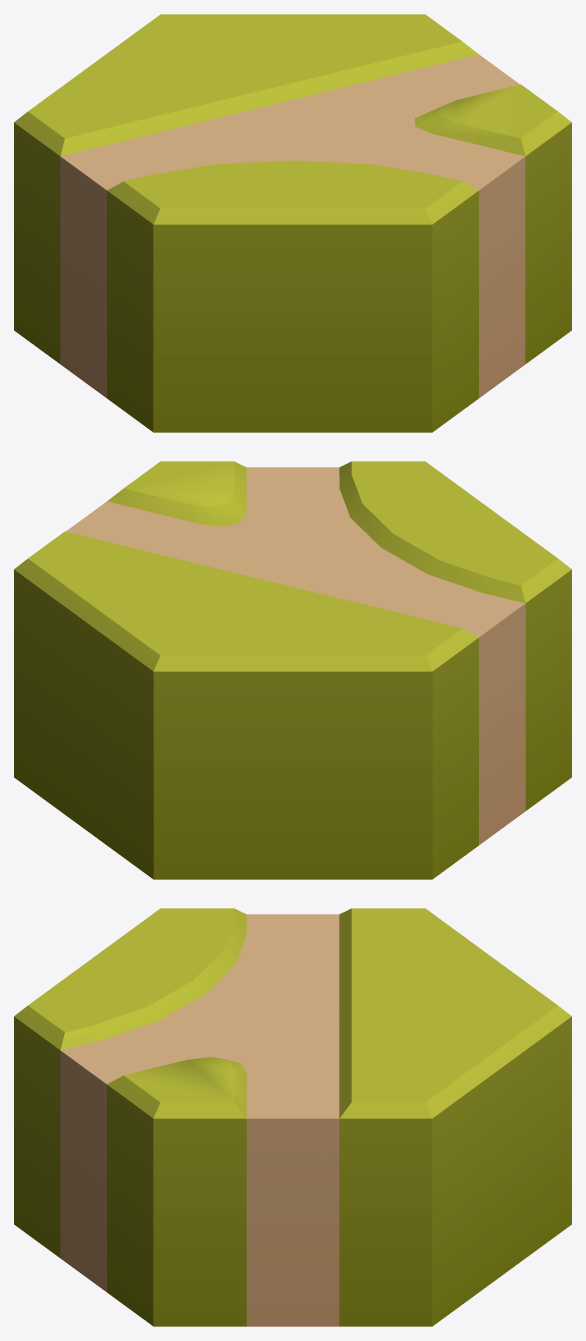
The model's file is kaykit-medieval-hexagon-pack-hex-road-f.glb.
3 views of the same model, one above another, from view 1: azimuth 30°, elevation 25°; view 2: azimuth 150°, elevation 25°; view 3: azimuth 270°, elevation 25° (orthographic).
Visible parts, largest first — view 1: hex_road_F; view 2: hex_road_F; view 3: hex_road_F.
Part boxes in pixels (x1,y1,x2,y2): hex_road_F: [14, 14, 571, 432]; hex_road_F: [14, 461, 571, 879]; hex_road_F: [14, 908, 571, 1326].
Bounding box in the file's own units: 2 × 1 × 2.31.
Materials: 1 (1 with a texture image).
